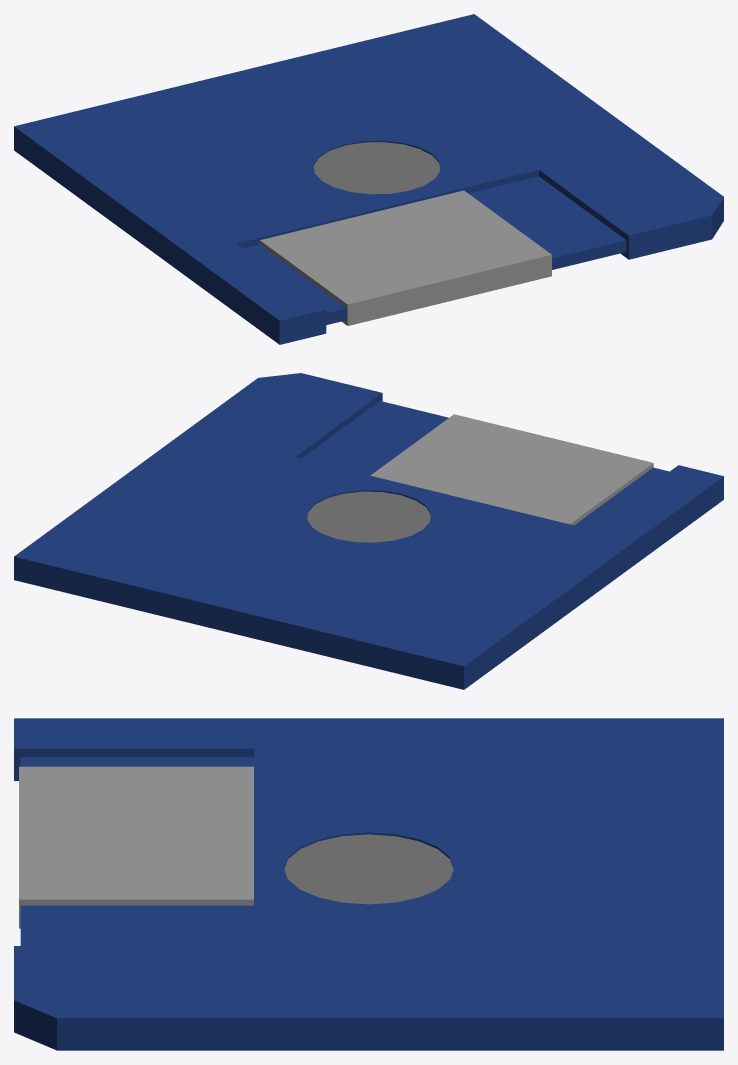
Rendered from FloppyDisk2.fbx.
The picture shows the model from 3 angles, top to bottom: view 1: azimuth 30°, elevation 25°; view 2: azimuth 150°, elevation 25°; view 3: azimuth 270°, elevation 25°; orthographic projection. The views are drawn at different scales.
Parts seen in each view (by area): view 1: pCube16, pCube18; view 2: pCube16, pCube18; view 3: pCube16, pCube18.
Part boxes in pixels (left/top/right/bottom): pCube16: left=14, top=14, right=723, bottom=344; pCube18: left=259, top=190, right=551, bottom=325; pCube16: left=14, top=373, right=723, bottom=689; pCube18: left=370, top=414, right=653, bottom=525; pCube16: left=14, top=718, right=723, bottom=1050; pCube18: left=19, top=766, right=253, bottom=928.
Size of the model in its own units: 2 by 0.1159 by 2.
